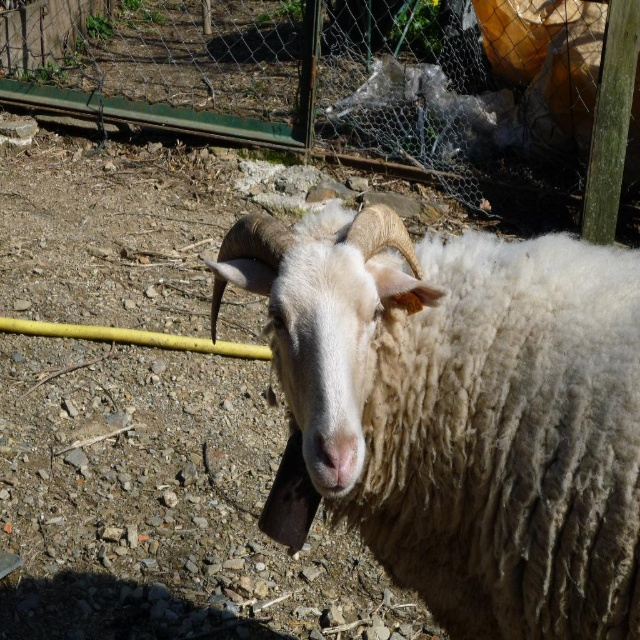Sheep: (204, 199, 640, 640)
